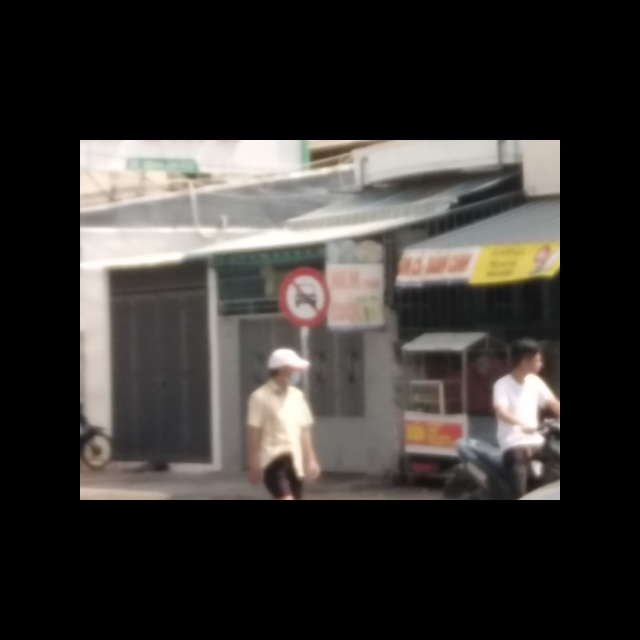Cấm xe ô tô: (279, 264, 335, 327)
